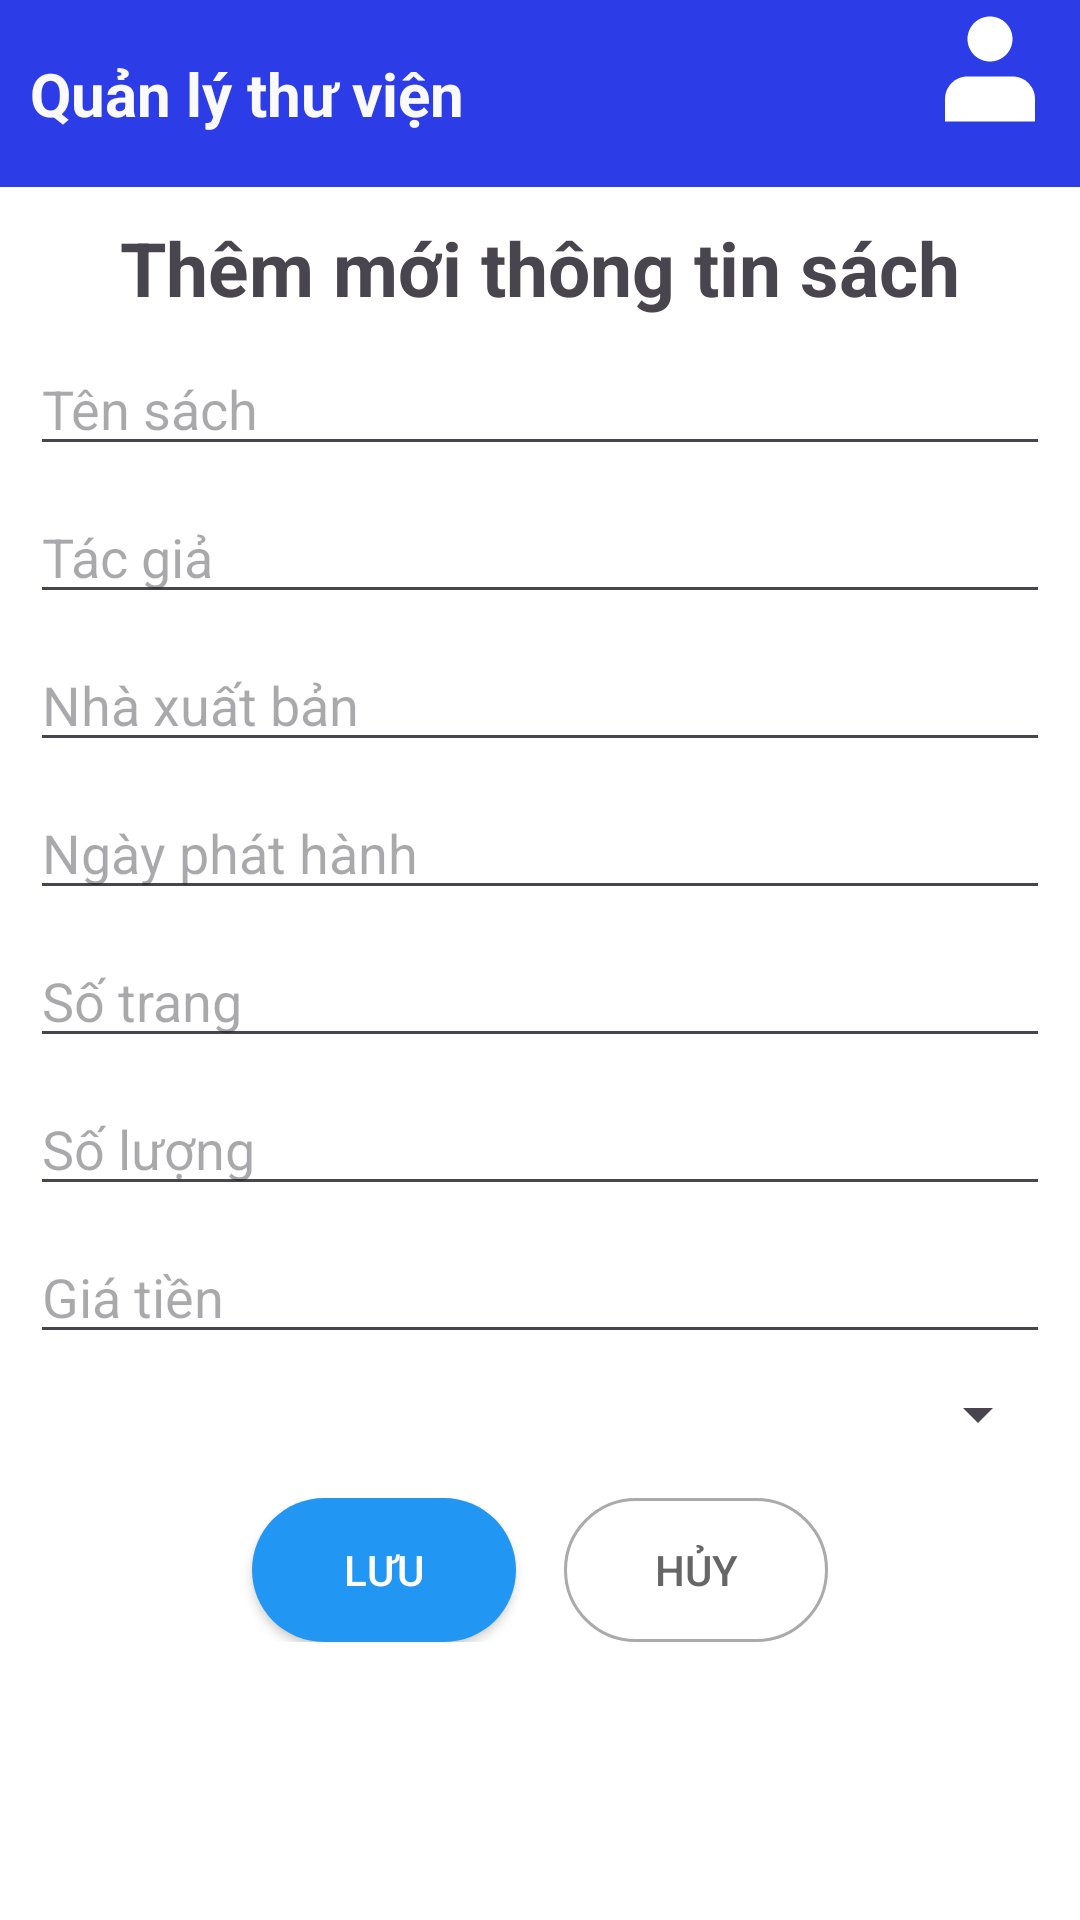

Point at icon controls on the screen. Image size 1080 x 1920, points as (x,y).
Admin1: (990,69)
